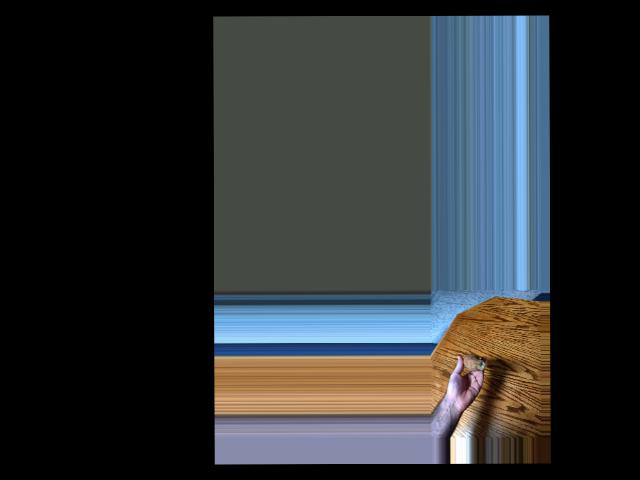sweet_potato: (460, 346, 485, 371)
